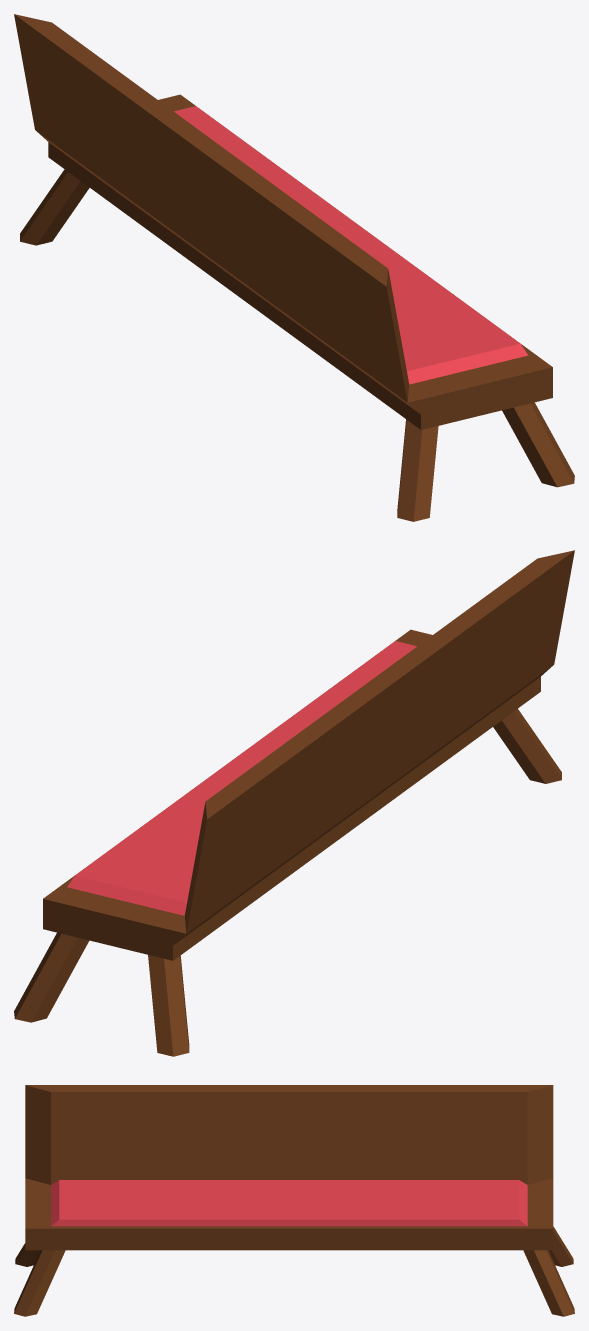
Rendered from CHURCHPEW_V1.fbx.
The picture shows the model from 3 angles, top to bottom: view 1: azimuth 30°, elevation 25°; view 2: azimuth 150°, elevation 25°; view 3: azimuth 270°, elevation 25°; orthographic projection. The views are drawn at different scales.
Parts seen in each view (by area): view 1: Pew; view 2: Pew; view 3: Pew.
Part boxes in pixels (bbox=[...]): Pew: bbox=[14, 14, 574, 521]; Pew: bbox=[14, 550, 574, 1056]; Pew: bbox=[14, 1085, 574, 1316].
Bounding box in the file's own units: 174 × 208 × 634.
